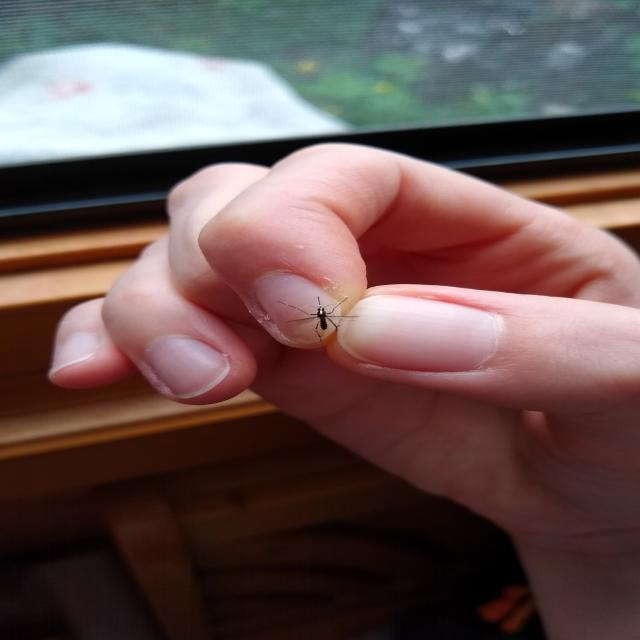albopictus: (268, 291, 360, 339)
